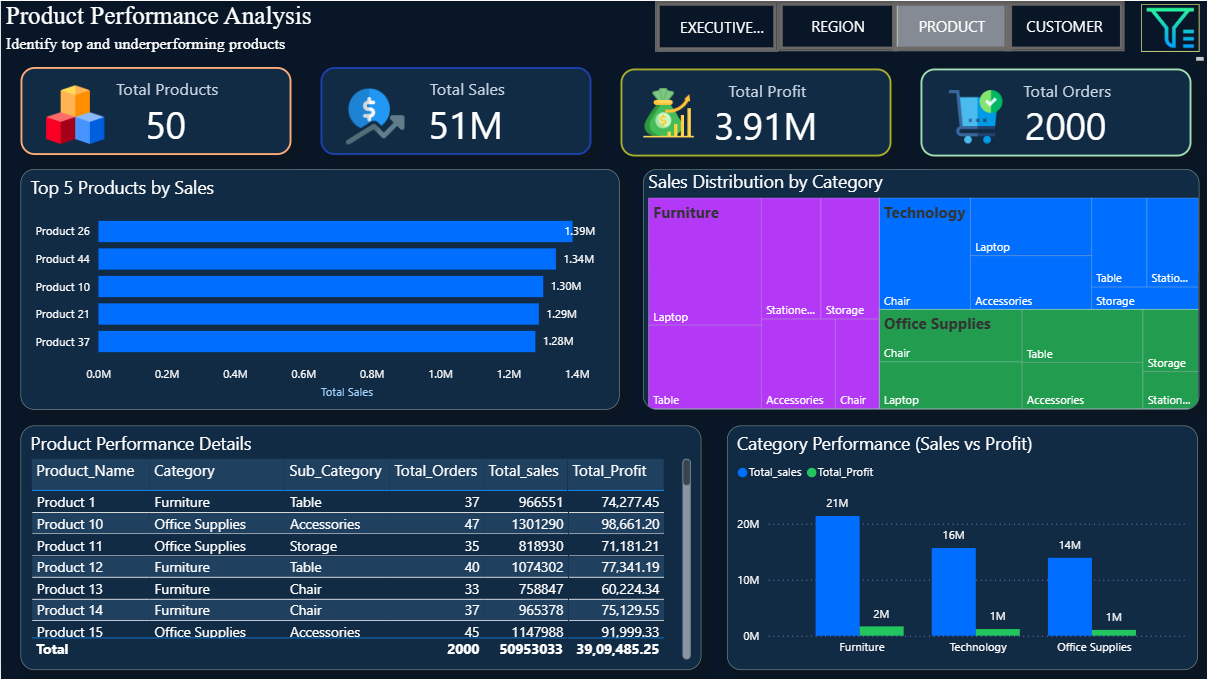

This screenshot's page, from the dashboard's own definition file:
{"tool":"powerbi","page":{"name":"PRODUCT","canvas":[1280,720],"ordinal":2},"visuals":[{"type":"actionButton","title":"REGION                     ","box":[823.6,0.5,127.4,53.4],"z":0,"group":"g5"},{"type":"card","title":"Total Products","fields":{"Values":["Calculate Measure.Total_Products"]},"box":[20,70.6,287.6,93.1],"z":0,"group":"g2"},{"type":"card","title":"Total Sales","fields":{"Values":["Calculate Measure.Total_sales"]},"box":[339,70.6,287.6,93.1],"z":0,"group":"g1"},{"type":"card","title":"Total Profit","fields":{"Values":["Calculate Measure.Total_Profit"]},"box":[656.4,71,287.6,93.1],"z":0,"group":"g3"},{"type":"card","title":"Total Orders","fields":{"Values":["Calculate Measure.Total_Orders"]},"box":[974.6,71,287.6,93.1],"z":0,"group":"g4"},{"type":"treemap","title":"  Sales Distribution by Category","fields":{"Details":["products.Sub_Category"],"Group":["products.Category"],"Values":["Calculate Measure.Total_sales"]},"box":[680,178.3,590,255],"z":0},{"type":"textbox","title":"Product Performance Analysis","box":[0,0,1280,68.3],"z":1000},{"type":"actionButton","title":"REGION                     ","box":[693.5,0,130.4,54.1],"z":1000,"group":"g5"},{"type":"image","box":[679.2,80.1,56.8,74],"z":1000,"group":"g3"},{"type":"image","box":[366.5,88.2,62,67.2],"z":1000,"group":"g1"},{"type":"image","box":[47.3,88.3,62,65.4],"z":1000,"group":"g2"},{"type":"image","box":[1005,88.6,56.8,67.2],"z":1000,"group":"g4"},{"type":"actionButton","title":"REGION                     ","box":[944.1,0.5,127.4,53.4],"z":2000,"group":"g5"},{"type":"clusteredBarChart","title":"Top 5 Products by Sales","fields":{"Category":["products.Product_Name"],"Y":["Calculate Measure.Total_sales"]},"box":[20,178.3,635,255],"z":2000},{"type":"actionButton","title":"REGION                     ","box":[1064.7,0.5,127.4,53.4],"z":3000,"group":"g5"},{"type":"tableEx","title":"Product Performance Details","fields":{"Values":["products.Product_Name","products.Category","products.Sub_Category","Calculate Measure.Total_Orders","Calculate Measure.Total_sales","Calculate Measure.Total_Profit"]},"box":[20.7,450.1,722.1,259.3],"z":3000},{"type":"clusteredColumnChart","title":"Category Performance (Sales vs Profit)","fields":{"Category":["products.Category"],"Y":["Calculate Measure.Total_sales","Calculate Measure.Total_Profit"]},"box":[769.9,450.1,499.5,259.3],"z":4000},{"type":"group","id":"g1","title":"Group 3","box":[339,70.6,286.7,93.3],"z":5000},{"type":"group","id":"g2","title":"Group 1","box":[20,70.6,288.3,93.3],"z":6000},{"type":"group","id":"g3","title":"Group 2","box":[656.4,71,287.6,93.1],"z":7000},{"type":"group","id":"g4","title":"Group 4","box":[974.6,71,287.6,93.1],"z":8000},{"type":"group","id":"g5","title":"Group 5","box":[693.5,0,497.9,54.1],"z":9000},{"type":"image","box":[1208.9,3.2,62,50.9],"z":11000}]}

Visuals, with their boxes in screenshot pixels (x1, y1, x2, y2), scaled from the page's 1280x720 canvas onto the 1207x679 screenshot:
"REGION                     " actionButton: rect(777, 0, 897, 51)
"Total Products" card: rect(19, 67, 290, 154)
"Total Sales" card: rect(320, 67, 591, 154)
"Total Profit" card: rect(619, 67, 890, 155)
"Total Orders" card: rect(919, 67, 1190, 155)
"  Sales Distribution by Category" treemap: rect(641, 168, 1198, 409)
"Product Performance Analysis" textbox: rect(0, 0, 1206, 64)
"REGION                     " actionButton: rect(654, 0, 777, 51)
image: rect(640, 76, 694, 145)
image: rect(346, 83, 404, 147)
image: rect(45, 83, 103, 145)
image: rect(948, 84, 1001, 147)
"REGION                     " actionButton: rect(890, 0, 1010, 51)
"Top 5 Products by Sales" clusteredBarChart: rect(19, 168, 618, 409)
"REGION                     " actionButton: rect(1004, 0, 1124, 51)
"Product Performance Details" tableEx: rect(20, 424, 700, 669)
"Category Performance (Sales vs Profit)" clusteredColumnChart: rect(726, 424, 1197, 669)
"Group 3" group: rect(320, 67, 590, 155)
"Group 1" group: rect(19, 67, 291, 155)
"Group 2" group: rect(619, 67, 890, 155)
"Group 4" group: rect(919, 67, 1190, 155)
"Group 5" group: rect(654, 0, 1123, 51)
image: rect(1140, 3, 1198, 51)
